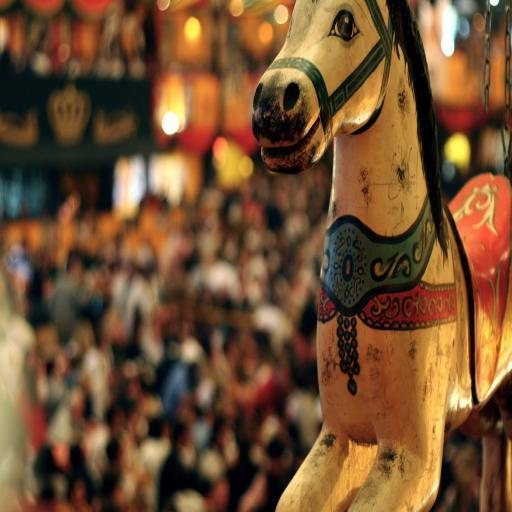horse: (250, 0, 512, 512)
